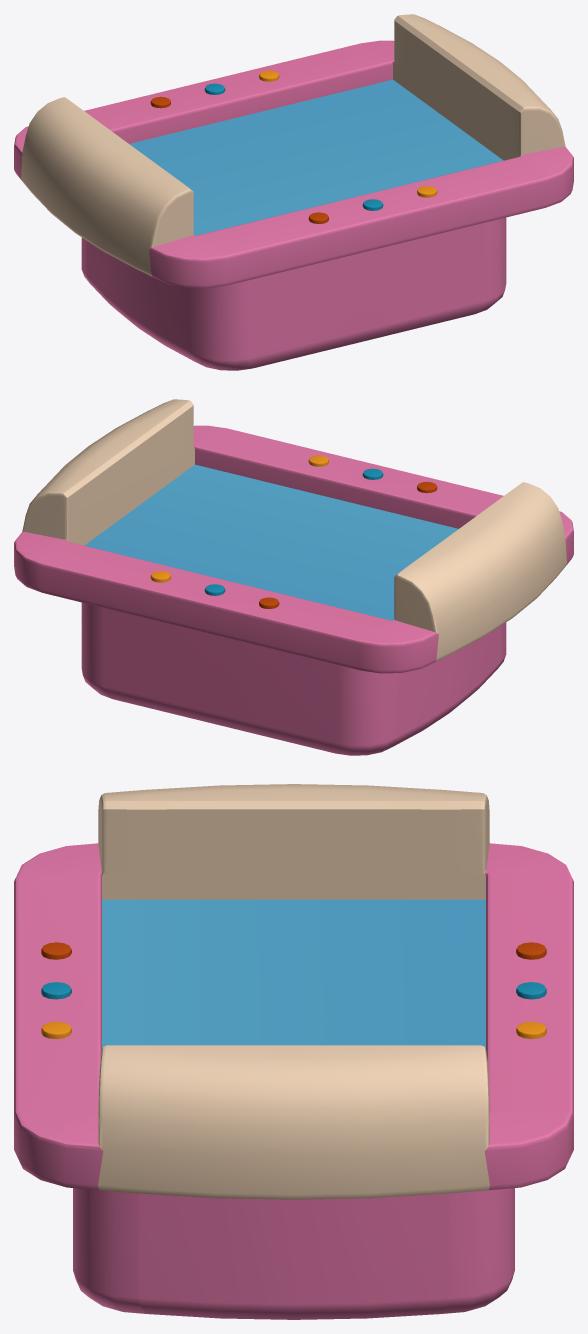
Rendered from TablePet_04.fbx.
3 renders of one model, top to bottom at view 1: azimuth 30°, elevation 25°; view 2: azimuth 150°, elevation 25°; view 3: azimuth 270°, elevation 25°, orthographic. The views are drawn at different scales.
Parts seen in each view (by area): view 1: TablePet_04; view 2: TablePet_04; view 3: TablePet_04.
Boxes of the visible parts, <box> form: TablePet_04: <box>14,14,573,370</box>; TablePet_04: <box>14,399,573,755</box>; TablePet_04: <box>14,784,573,1319</box>.
Size of the model in its own units: 119 by 48.39 by 86.83.
